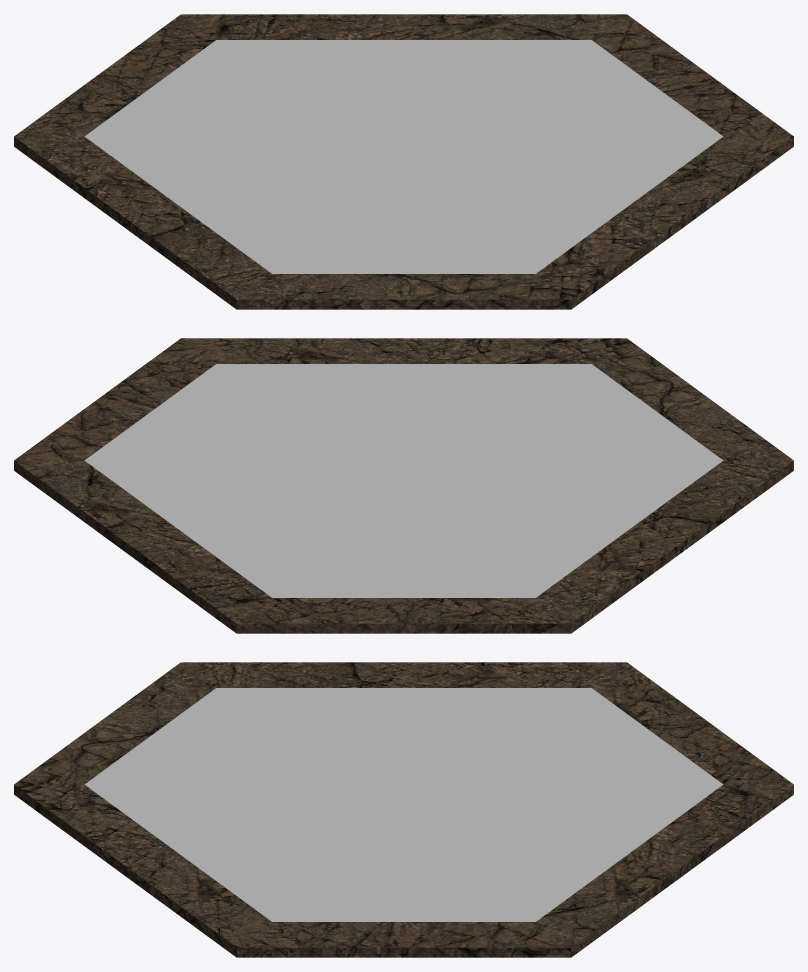
Rendered from ControlPoint_Art.fbx.
The picture shows the model from 3 angles, top to bottom: view 1: azimuth 30°, elevation 25°; view 2: azimuth 150°, elevation 25°; view 3: azimuth 270°, elevation 25°; orthographic projection.
Parts seen in each view (by area): view 1: ControlPoint_Art; view 2: ControlPoint_Art; view 3: ControlPoint_Art.
Part boxes in pixels (x1=…): ControlPoint_Art: x1=14, y1=14, x2=793, y2=309; ControlPoint_Art: x1=14, y1=338, x2=793, y2=633; ControlPoint_Art: x1=14, y1=662, x2=793, y2=957.
Size of the model in its own units: 464 by 7.69 by 536.
